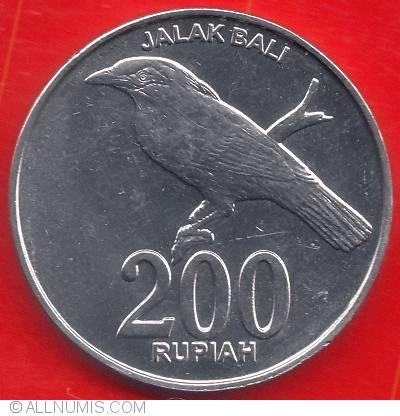coin_200_e2003: (5, 3, 396, 395)
